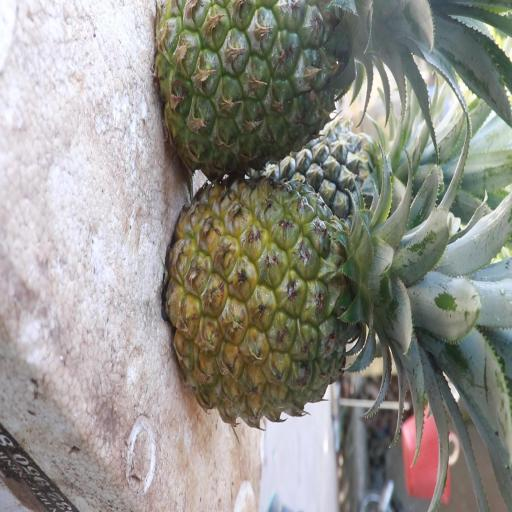------------------------------: (151, 0, 375, 174)
Pineapple - v8 v1: (167, 182, 412, 421)
